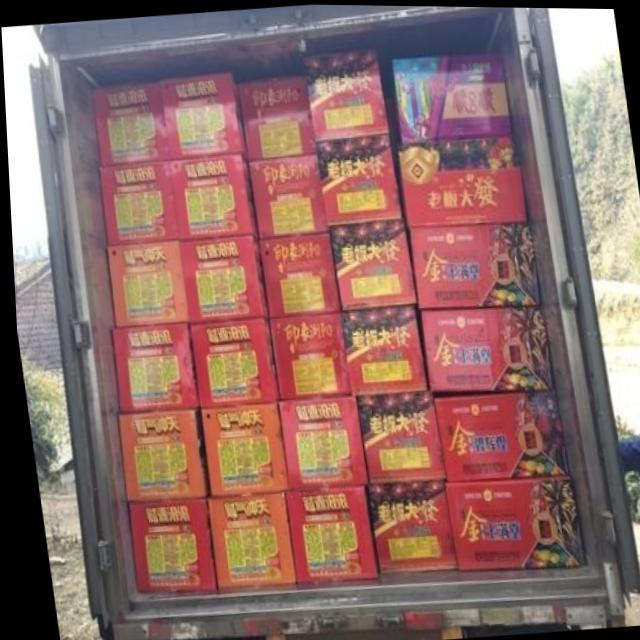box: (440, 473, 577, 567), (429, 388, 561, 479), (396, 133, 522, 227), (406, 217, 534, 307), (391, 51, 511, 145), (417, 305, 549, 388), (281, 485, 371, 583), (360, 475, 448, 574), (202, 490, 289, 589), (273, 393, 361, 488), (124, 498, 211, 593), (174, 234, 267, 322), (352, 389, 440, 482), (196, 401, 281, 495), (315, 131, 400, 224), (158, 69, 244, 160), (187, 315, 272, 407), (108, 324, 192, 416), (115, 410, 202, 498), (302, 50, 387, 140), (327, 220, 411, 311), (166, 154, 255, 239), (254, 232, 339, 319), (338, 304, 423, 391), (102, 240, 185, 323), (265, 311, 345, 397), (245, 152, 326, 236), (89, 81, 168, 163), (97, 159, 175, 242), (239, 76, 315, 158)
